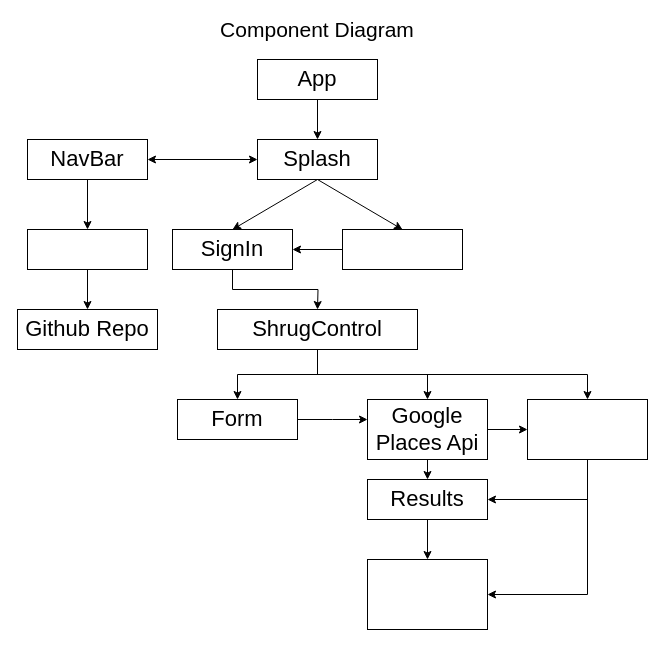
This 665x657 diagram has some shape labels left out. Each missing label, with the centre of its shape:
"Google Map" goes at [427,594].
"Google Maps Api" goes at [587,429].
"SignOut" goes at [87,249].
"SignUp" goes at [402,249].
